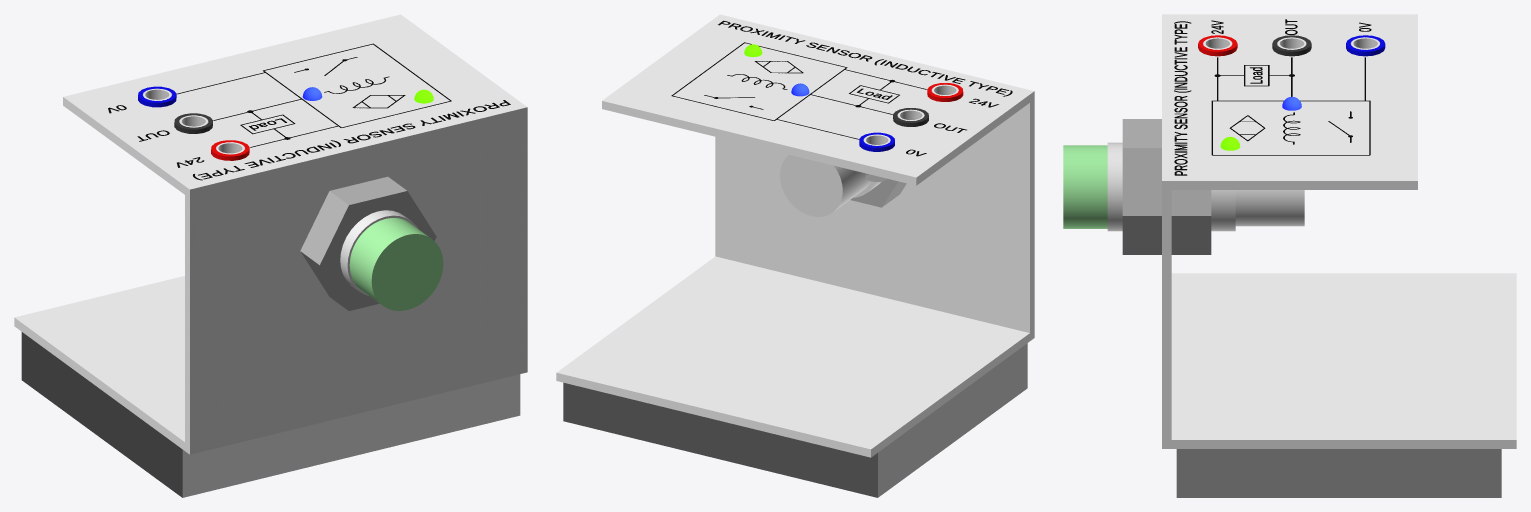
Rendered from inductive-sensor-npn.glb.
The picture shows the model from 3 angles, left to right: view 1: azimuth 30°, elevation 25°; view 2: azimuth 150°, elevation 25°; view 3: azimuth 270°, elevation 25°; orthographic projection. The views are drawn at different scales.
Parts seen in each view (by area): view 1: InductiveBase__go1065__mesh5, InductiveBase__go1065__mesh0, InductiveBase__go1065__mesh2, InductiveBase__go1065__mesh4, Sticker__go857__mesh0, InductiveBase__go1065__mesh1, InductiveBase__go1065__mesh7, InductiveBase__go1065__mesh6, InductiveBase__go1065__mesh3; view 2: InductiveBase__go1065__mesh5, InductiveBase__go1065__mesh0, InductiveBase__go1065__mesh1, Sticker__go857__mesh0, InductiveBase__go1065__mesh4, InductiveBase__go1065__mesh7, InductiveBase__go1065__mesh6, InductiveBase__go1065__mesh3; view 3: InductiveBase__go1065__mesh5, InductiveBase__go1065__mesh0, InductiveBase__go1065__mesh4, InductiveBase__go1065__mesh1, InductiveBase__go1065__mesh2, Sticker__go857__mesh0, InductiveBase__go1065__mesh3, InductiveBase__go1065__mesh6, InductiveBase__go1065__mesh7.
Boxes of the visible parts, x1=… form: InductiveBase__go1065__mesh5: x1=14, y1=14, x2=527, y2=454; InductiveBase__go1065__mesh0: x1=21, y1=332, x2=520, y2=497; InductiveBase__go1065__mesh2: x1=349, y1=218, x2=443, y2=310; InductiveBase__go1065__mesh4: x1=300, y1=176, x2=436, y2=310; Sticker__go857__mesh0: x1=108, y1=43, x2=510, y2=180; InductiveBase__go1065__mesh1: x1=340, y1=210, x2=418, y2=295; InductiveBase__go1065__mesh7: x1=138, y1=86, x2=176, y2=107; InductiveBase__go1065__mesh6: x1=211, y1=140, x2=249, y2=160; InductiveBase__go1065__mesh3: x1=174, y1=113, x2=212, y2=133; InductiveBase__go1065__mesh5: x1=556, y1=14, x2=1034, y2=457; InductiveBase__go1065__mesh0: x1=563, y1=343, x2=1027, y2=497; InductiveBase__go1065__mesh1: x1=780, y1=154, x2=881, y2=216; Sticker__go857__mesh0: x1=671, y1=20, x2=1012, y2=156; InductiveBase__go1065__mesh4: x1=850, y1=179, x2=906, y2=207; InductiveBase__go1065__mesh7: x1=859, y1=132, x2=894, y2=181; InductiveBase__go1065__mesh6: x1=927, y1=83, x2=963, y2=101; InductiveBase__go1065__mesh3: x1=893, y1=108, x2=928, y2=126; InductiveBase__go1065__mesh5: x1=1162, y1=14, x2=1516, y2=448; InductiveBase__go1065__mesh0: x1=1176, y1=449, x2=1501, y2=497; InductiveBase__go1065__mesh4: x1=1122, y1=119, x2=1211, y2=254; InductiveBase__go1065__mesh1: x1=1107, y1=142, x2=1304, y2=231; InductiveBase__go1065__mesh2: x1=1063, y1=145, x2=1107, y2=228; Sticker__go857__mesh0: x1=1174, y1=19, x2=1371, y2=175; InductiveBase__go1065__mesh3: x1=1272, y1=35, x2=1311, y2=56; InductiveBase__go1065__mesh6: x1=1198, y1=35, x2=1237, y2=56; InductiveBase__go1065__mesh7: x1=1346, y1=35, x2=1385, y2=56.
Size of the model in its own units: 0.08 by 0.073 by 0.092.
Materials: 11 (5 with a texture image).
